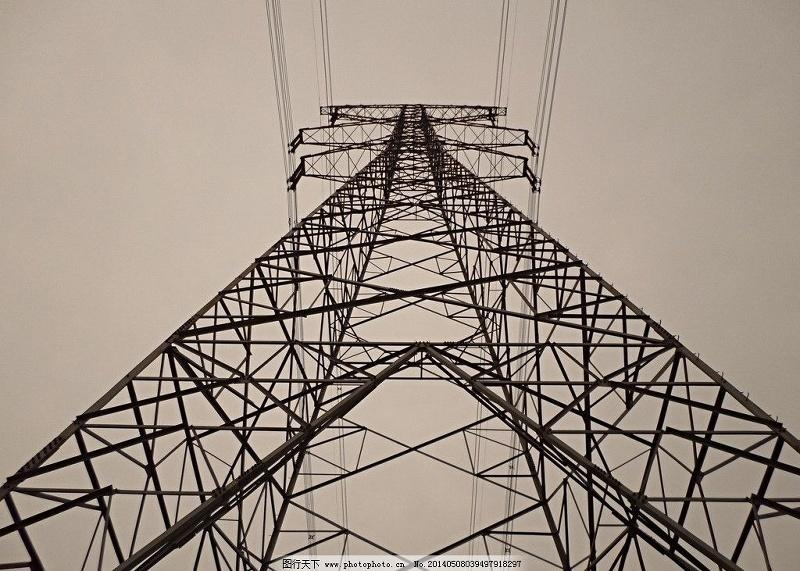power_tower: (7, 78, 794, 559)
